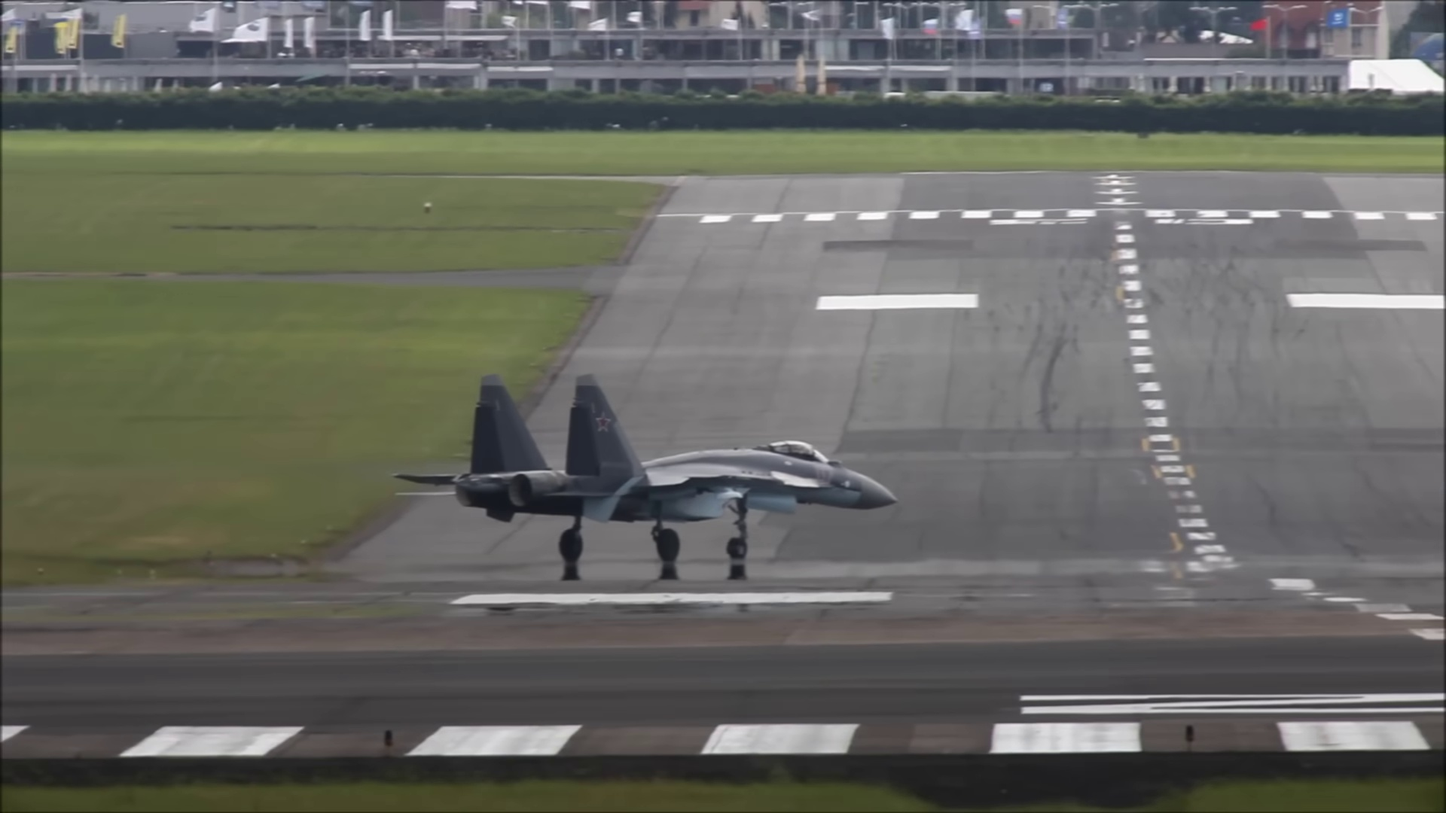Su35: (380, 364, 908, 583)
